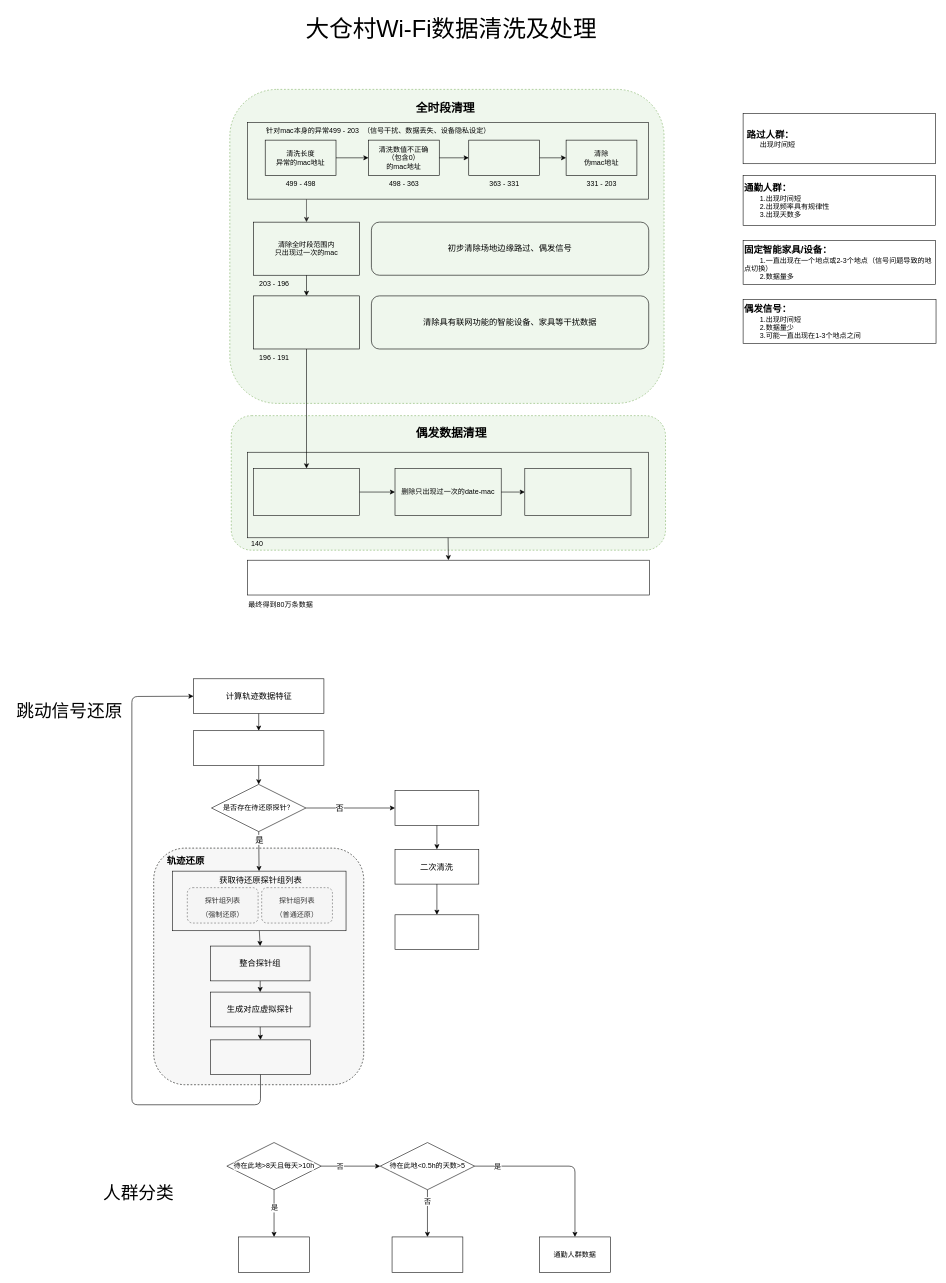
Some shapes in this 946 by 1283 pixel diagram are drawn without their labels. Each missing label, with the centre of its shape:
"仅保留定位变化数据" goes at point (448, 577).
"删除一天中数据量<10， 出现位置<3， 持续时间<0.5h, 的date-mac" goes at point (577, 492).
"将mac按照日期打上标签： date-mac （ 28,54,187,20,163,246/ 7.5-28,54,187,20,163,246）" goes at point (306, 492).
"居民数据" goes at point (273, 1254).
"清除 多播/广播mac地址" goes at point (504, 158).
"清除全时段范围内 一直出现在同一个地方的mac" goes at point (306, 322).
"游客人群数据" goes at point (427, 1254).
"获取待还原探针评估基准" goes at point (258, 748).
"轨迹还原完毕" goes at point (436, 932).
"还原漂移轨迹" goes at point (436, 807).
"还原跳动轨迹至虚拟探针" goes at point (260, 1057).
